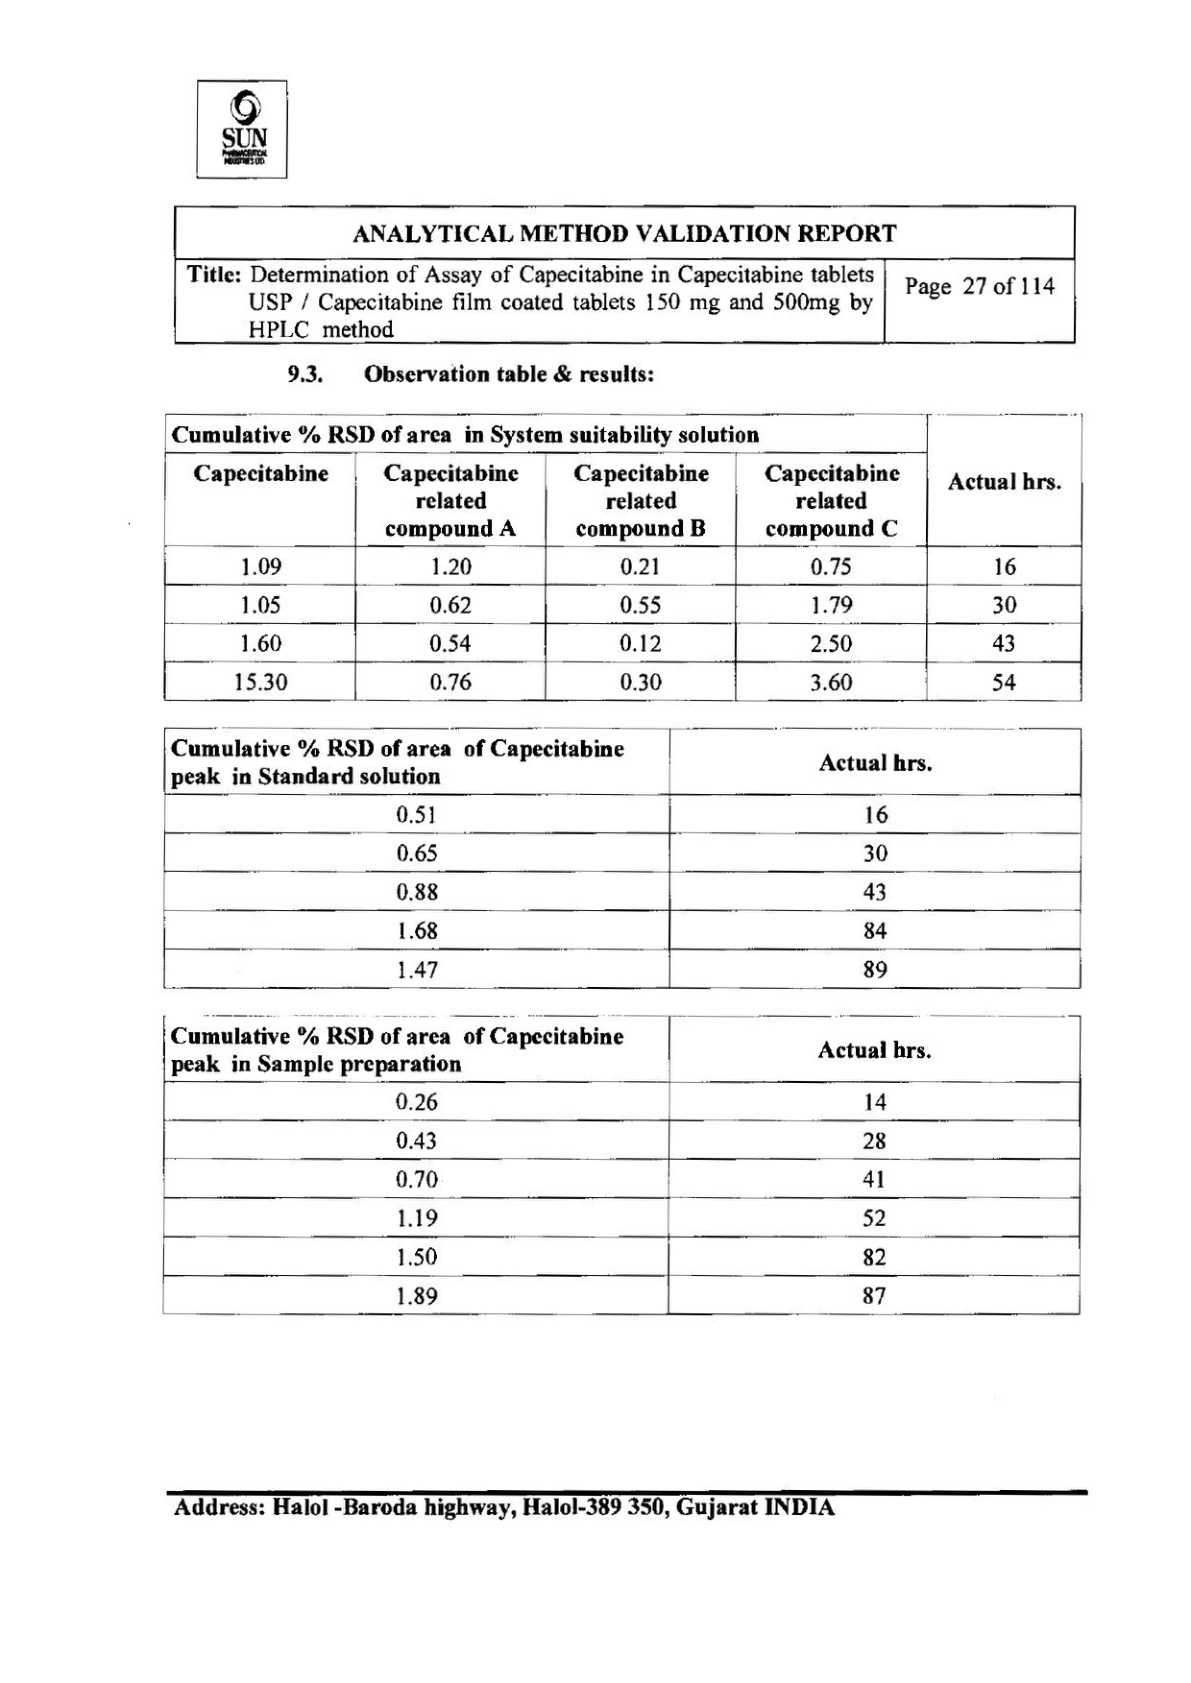full_lined: (160, 1008, 1084, 1317), (161, 724, 1084, 991)
merged_cells: (162, 411, 1087, 705), (171, 204, 1079, 347)
